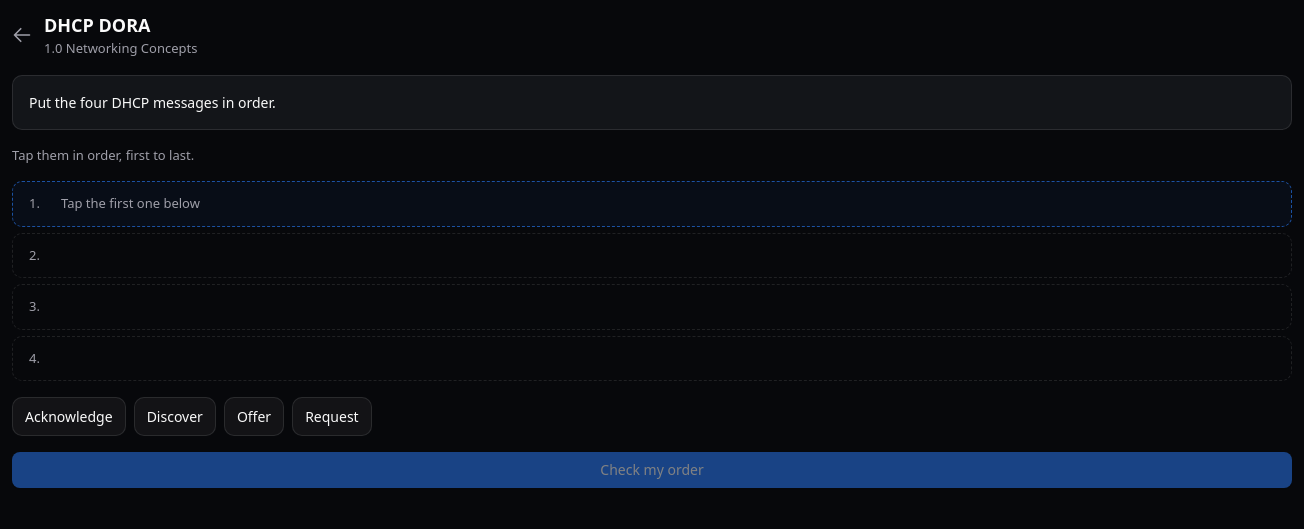
Test: ordering PBQs › grades a partly wrong order with partial credit
The image size is (1304, 529).
Click the button "Discover" at (175, 416), box [134,397,216,436]
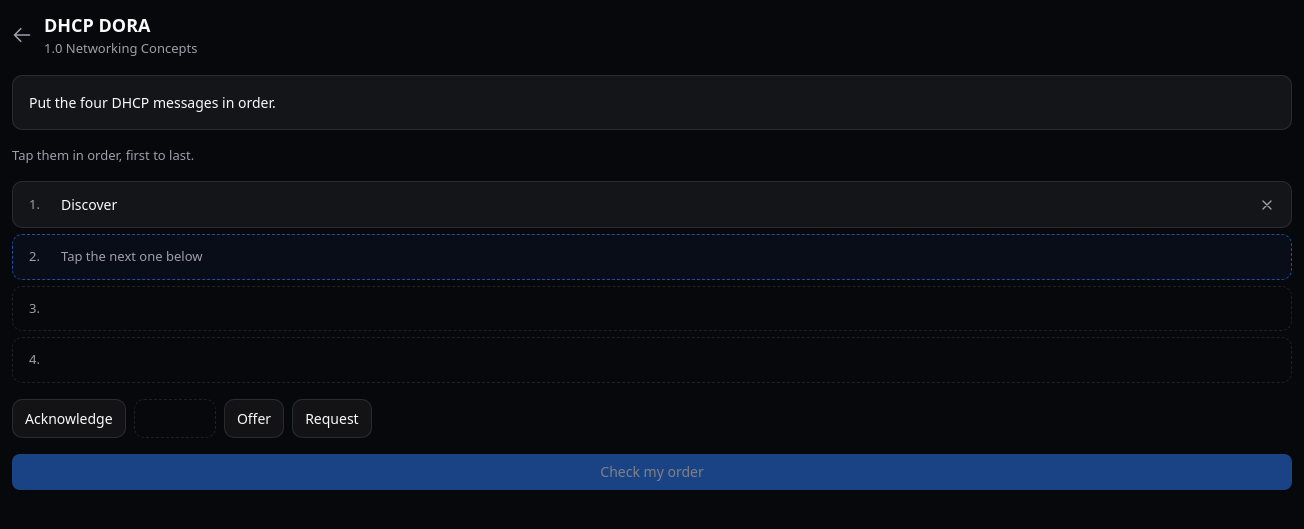
Click the button "Request" at (332, 418), box [292,398,372,438]
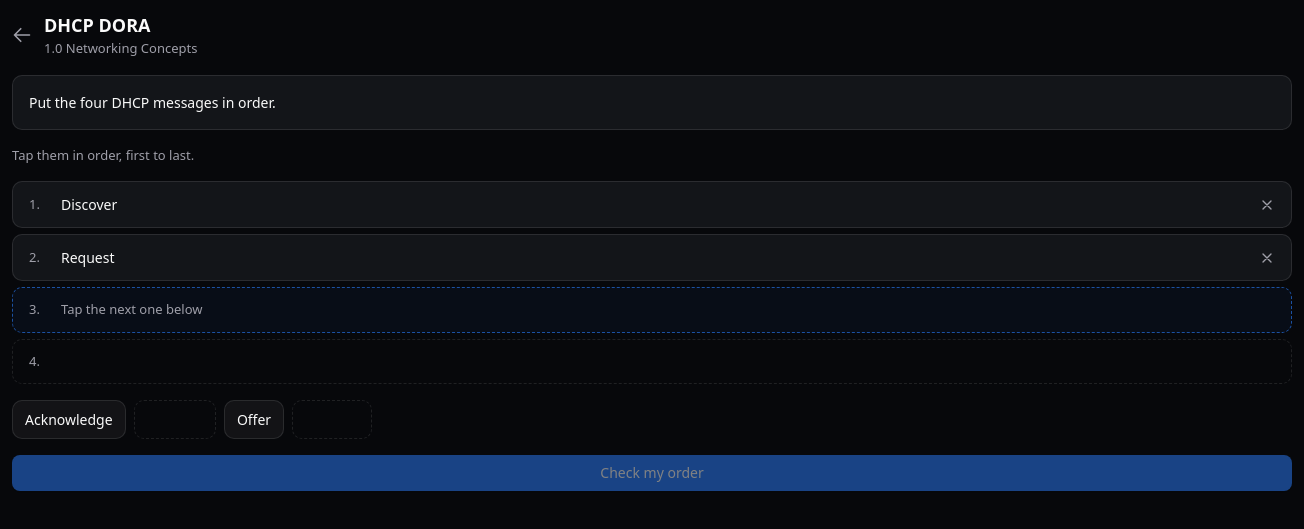
Click the button "Offer" at (254, 420), box [224,400,284,439]
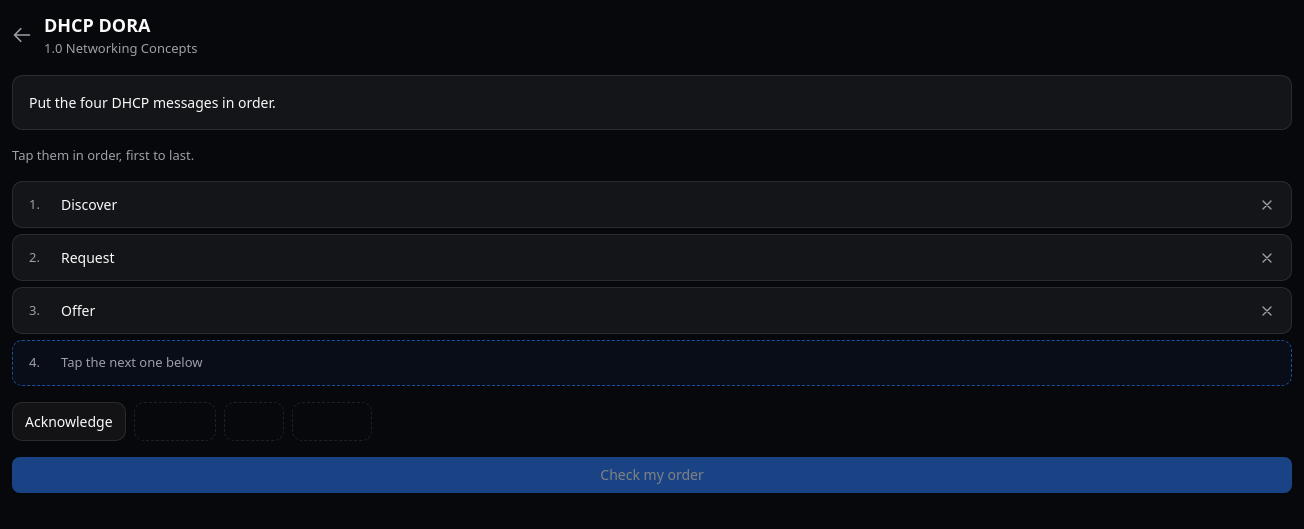
Click the button "Acknowledge" at (69, 421), box [12,402,126,440]
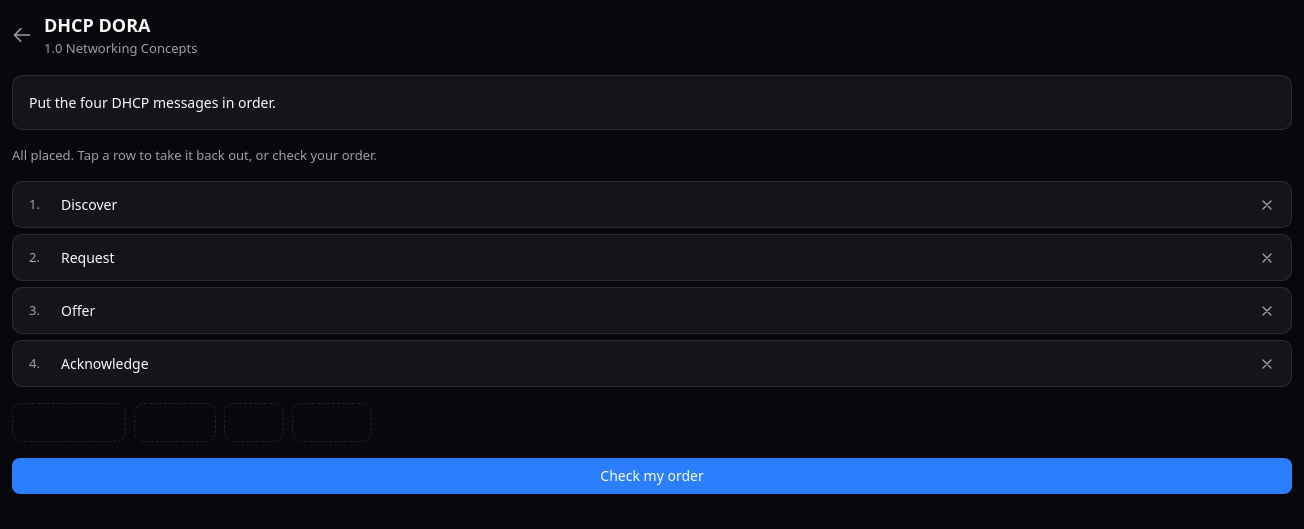
Click the button "Check my order" at (652, 476), box [12,458,1292,494]
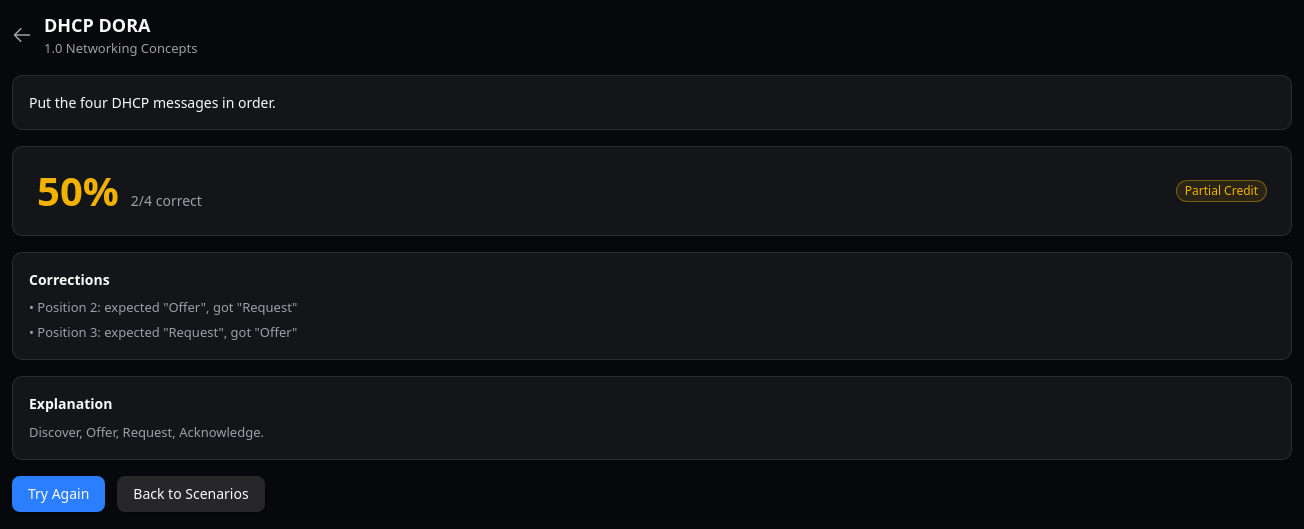
Now the text "50%" is shown, box [37,170,119,210]
